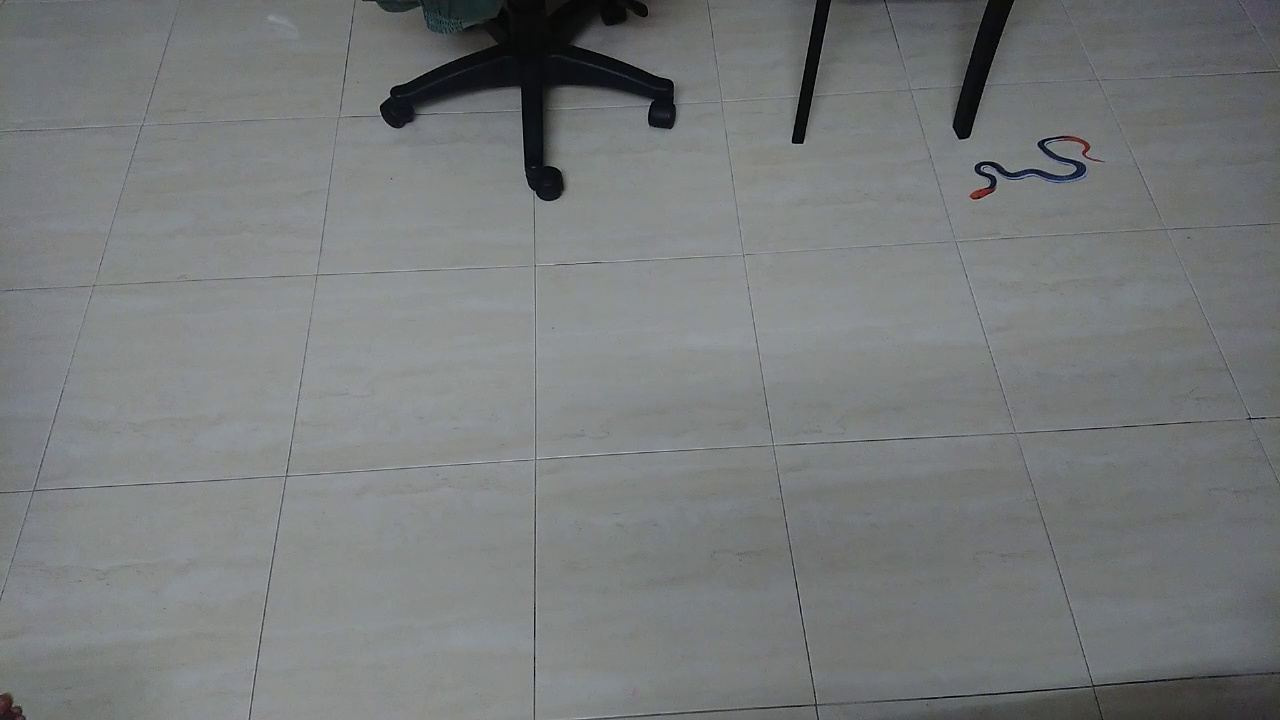snake: (956, 122, 1112, 213)
